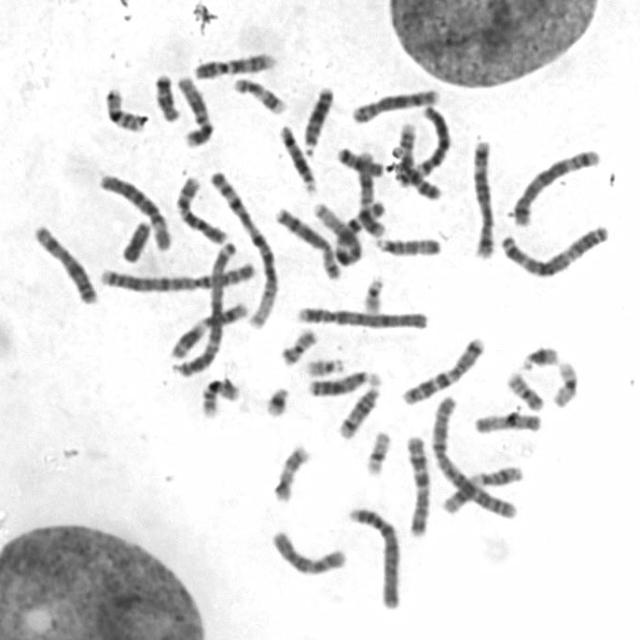A1: (205, 165, 280, 330), (308, 198, 366, 267)
A2: (428, 389, 522, 521), (94, 256, 260, 294)
A3: (169, 238, 240, 374), (496, 218, 613, 280)
B4: (343, 500, 404, 611), (293, 300, 431, 332)
B5: (508, 143, 602, 228), (468, 134, 498, 260)
C10: (170, 170, 230, 245), (267, 525, 350, 578)
C11: (166, 296, 252, 360), (439, 460, 526, 514)
C12: (173, 70, 216, 148), (353, 146, 388, 238)
C6: (96, 168, 175, 253), (391, 100, 453, 189)
C7: (396, 331, 488, 406), (402, 429, 433, 539)
C8: (270, 202, 342, 282), (347, 83, 442, 125)
C9: (394, 119, 443, 202), (189, 47, 278, 80)
D13: (298, 80, 336, 155), (303, 365, 382, 398)
D14: (275, 119, 318, 195), (334, 380, 383, 440)
D15: (469, 407, 545, 436), (371, 231, 444, 258)
E16: (101, 82, 147, 134), (196, 373, 242, 420)
E17: (270, 440, 312, 504), (229, 72, 289, 116)
E18: (332, 142, 384, 178), (150, 68, 182, 123)
F19: (361, 425, 394, 478), (548, 356, 581, 409)
F20: (276, 322, 320, 368), (502, 366, 546, 412)
G21: (516, 340, 562, 372), (260, 381, 292, 418)
G22: (358, 272, 388, 314), (301, 353, 347, 377)
X: (29, 220, 101, 306)
Y: (118, 215, 153, 264)
